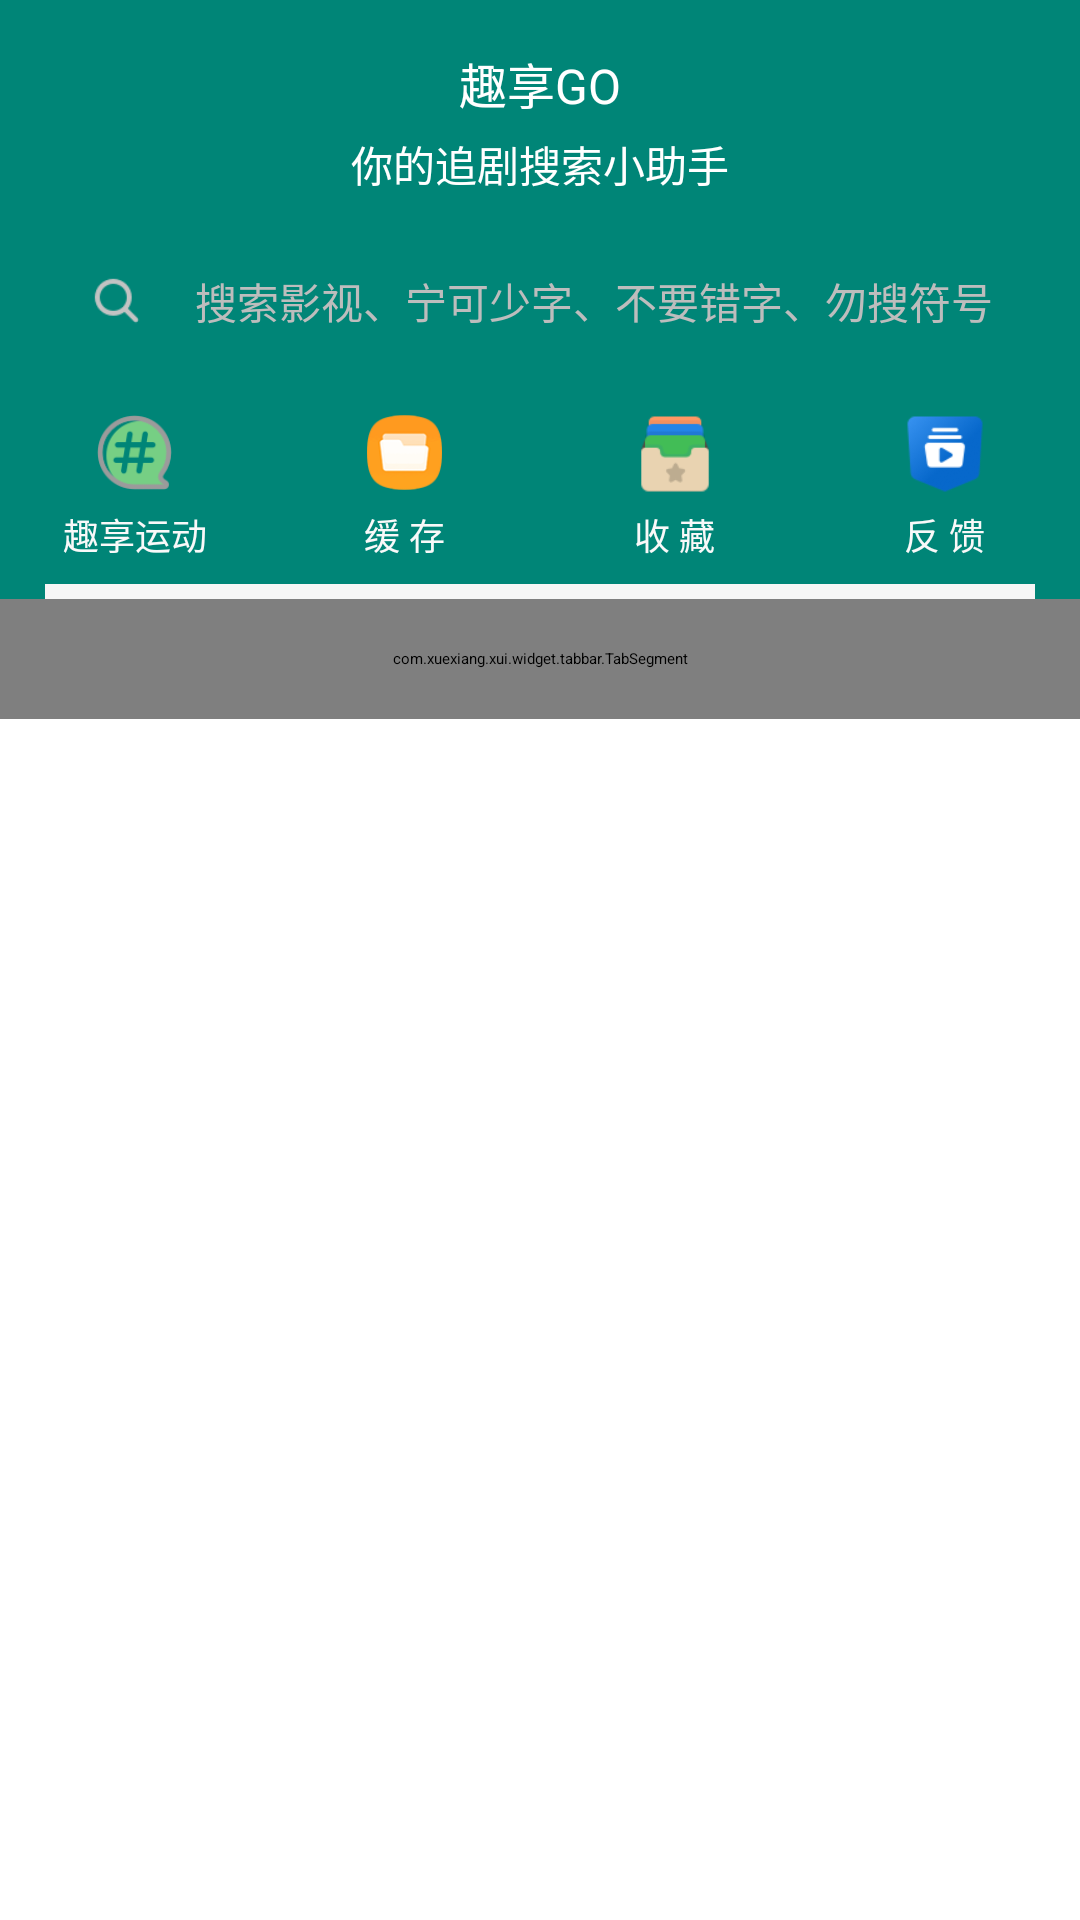

Where to tap for icons on this 1080 x 1920 app screen, as (x=x, y=y):
search: (x=116, y=300)
top down: (x=404, y=452)
